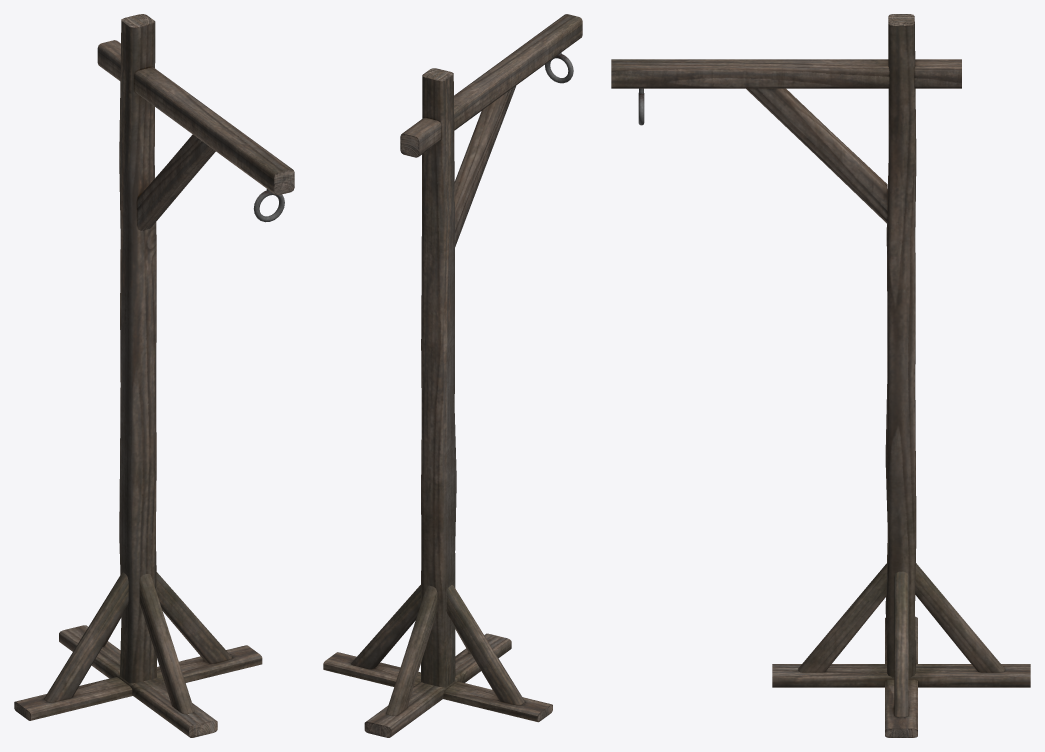
File: pole_03.fbx
3 renders of one model, left to right at view 1: azimuth 30°, elevation 25°; view 2: azimuth 150°, elevation 25°; view 3: azimuth 270°, elevation 25°, orthographic. The views are drawn at different scales.
Parts seen in each view (by area): view 1: pole_03; view 2: pole_03; view 3: pole_03.
Boxes of the visible parts, <box> form: pole_03: <box>14,14,294,737</box>; pole_03: <box>323,14,582,737</box>; pole_03: <box>611,14,1030,737</box>.
Size of the model in its own units: 248 by 681 by 391.
